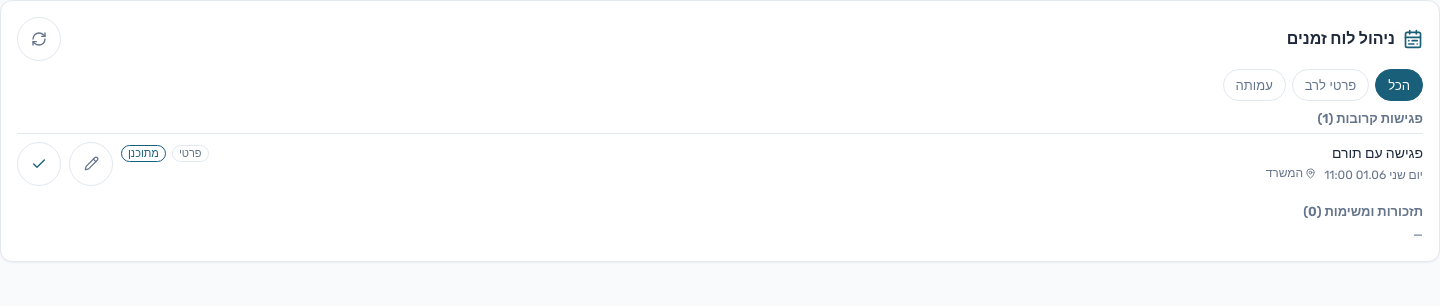
Test case: RabbiScheduleManager › surfaces an error when a status update fails
Click the button with test id "rabbi-sched-mark-done" at (39, 164), box [17,142,61,186]
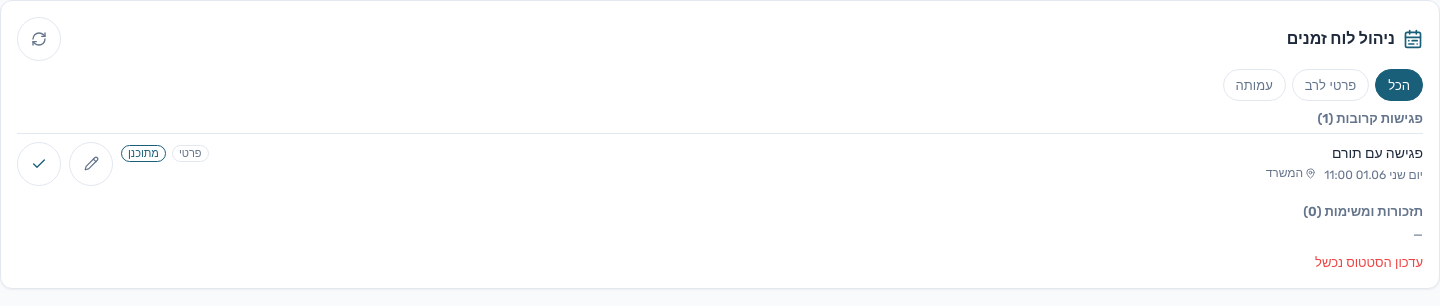
Result: the text "עדכון הסטטוס נכשל" is shown at [1315,254,1423,270]
